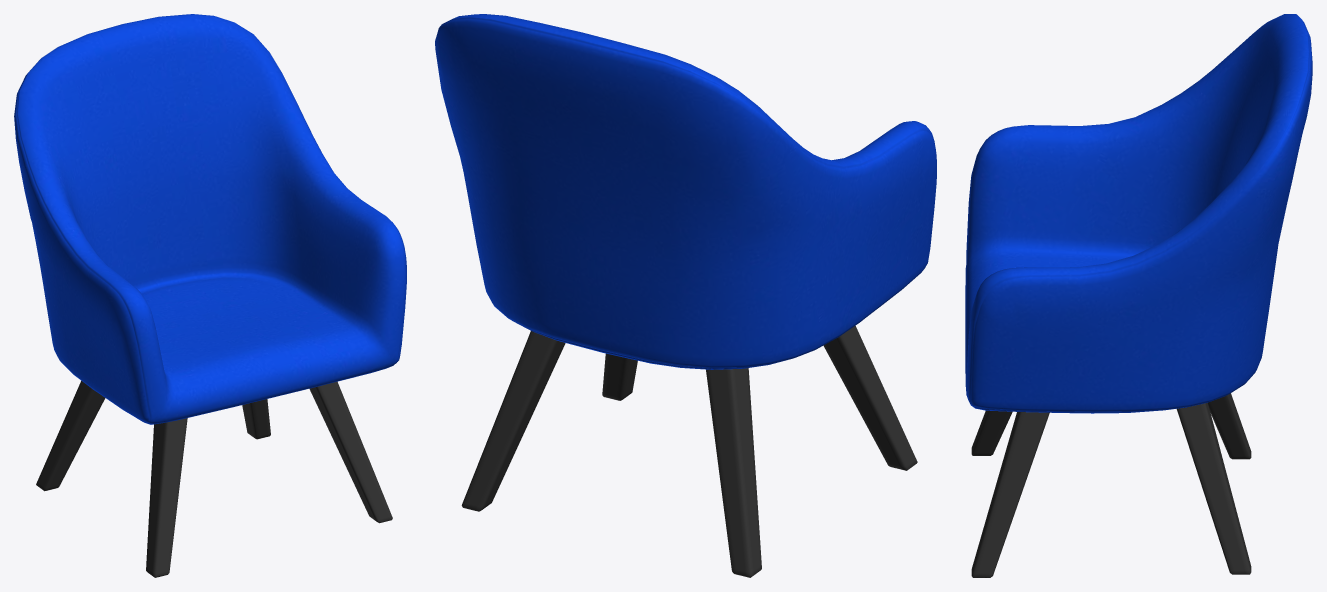
File: chair-example.glb
The picture shows the model from 3 angles, left to right: view 1: azimuth 30°, elevation 25°; view 2: azimuth 150°, elevation 25°; view 3: azimuth 270°, elevation 25°; orthographic projection. The views are drawn at different scales.
Visible parts, largest first — view 1: seat_mesh_n3d, leg_004_mesh_n3d, leg_003_mesh_n3d, leg_002_mesh_n3d, leg_001_mesh_n3d; view 2: seat_mesh_n3d, leg_002_mesh_n3d, leg_001_mesh_n3d, leg_004_mesh_n3d, leg_003_mesh_n3d; view 3: seat_mesh_n3d, leg_001_mesh_n3d, leg_003_mesh_n3d, leg_002_mesh_n3d, leg_004_mesh_n3d.
Part boxes in pixels (x1,y1,x2,y2): seat_mesh_n3d: (14,14,406,424); leg_004_mesh_n3d: (146,418,187,577); leg_003_mesh_n3d: (309,381,392,523); leg_002_mesh_n3d: (36,381,105,491); leg_001_mesh_n3d: (242,399,270,439); seat_mesh_n3d: (435,14,936,369); leg_002_mesh_n3d: (706,368,761,577); leg_001_mesh_n3d: (461,331,565,511); leg_004_mesh_n3d: (823,326,917,470); leg_003_mesh_n3d: (602,353,637,400); seat_mesh_n3d: (965,14,1312,413); leg_001_mesh_n3d: (1176,402,1251,574); leg_003_mesh_n3d: (971,412,1049,577); leg_002_mesh_n3d: (1208,393,1251,459); leg_004_mesh_n3d: (971,410,1012,455).
Size of the model in its own units: 0.1675 by 0.2331 by 0.1583.
Materials: 2 (1 with a texture image).
